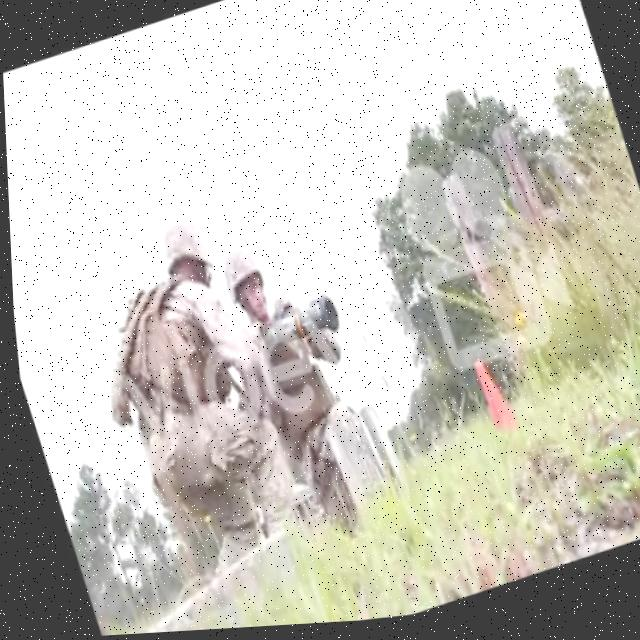rocket: (249, 293, 338, 359)
